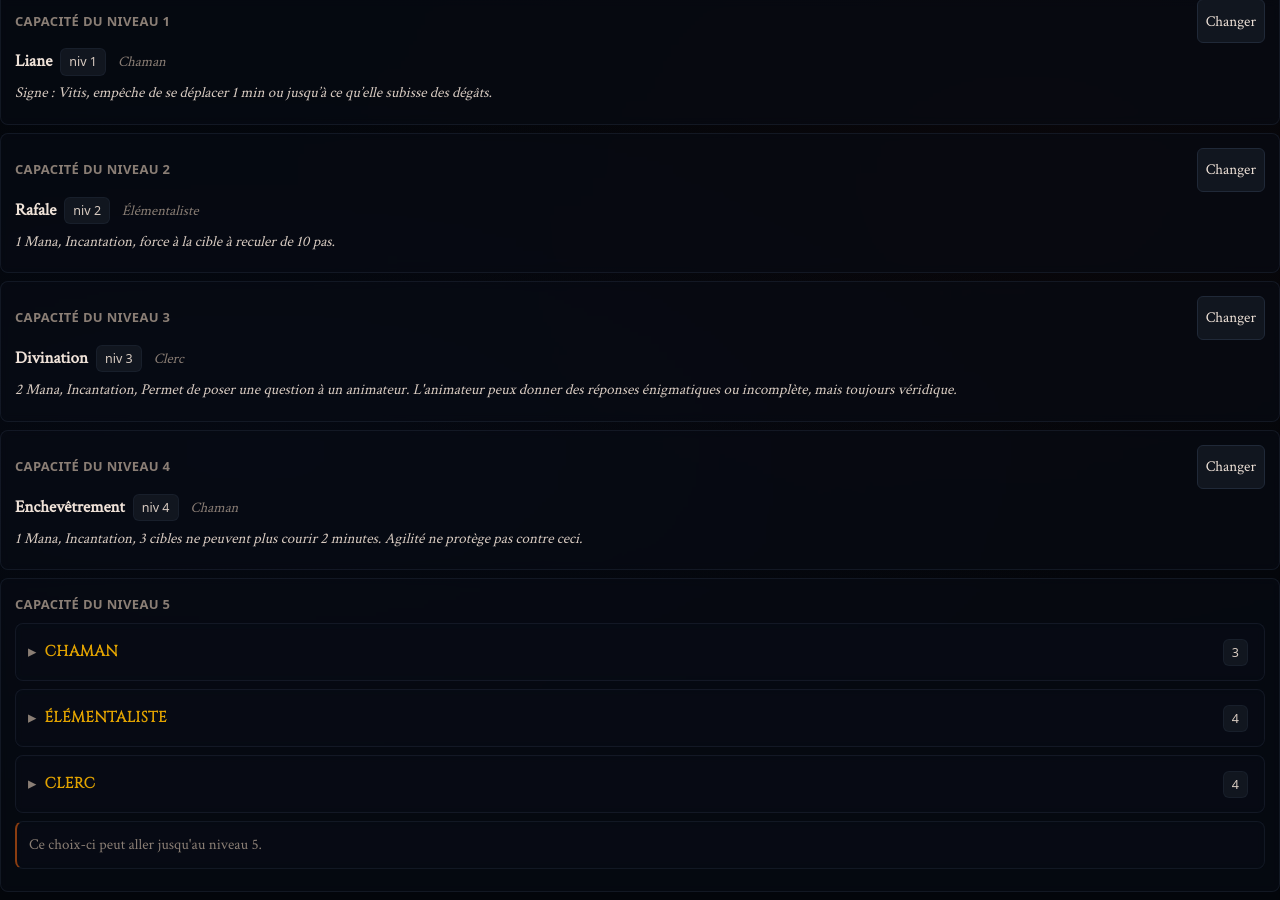
Test: D16 ⑦ — D14 à l’écran : `affichage ?? verbatim` › jumelle : une capacité sans correction rend son verbatim tel quel — une fois sa voie ouverte
(page scrolled)
Click the button "▸ Chaman 3" at (81, 652), box 16,624 -> 1264,680
(page scrolled)
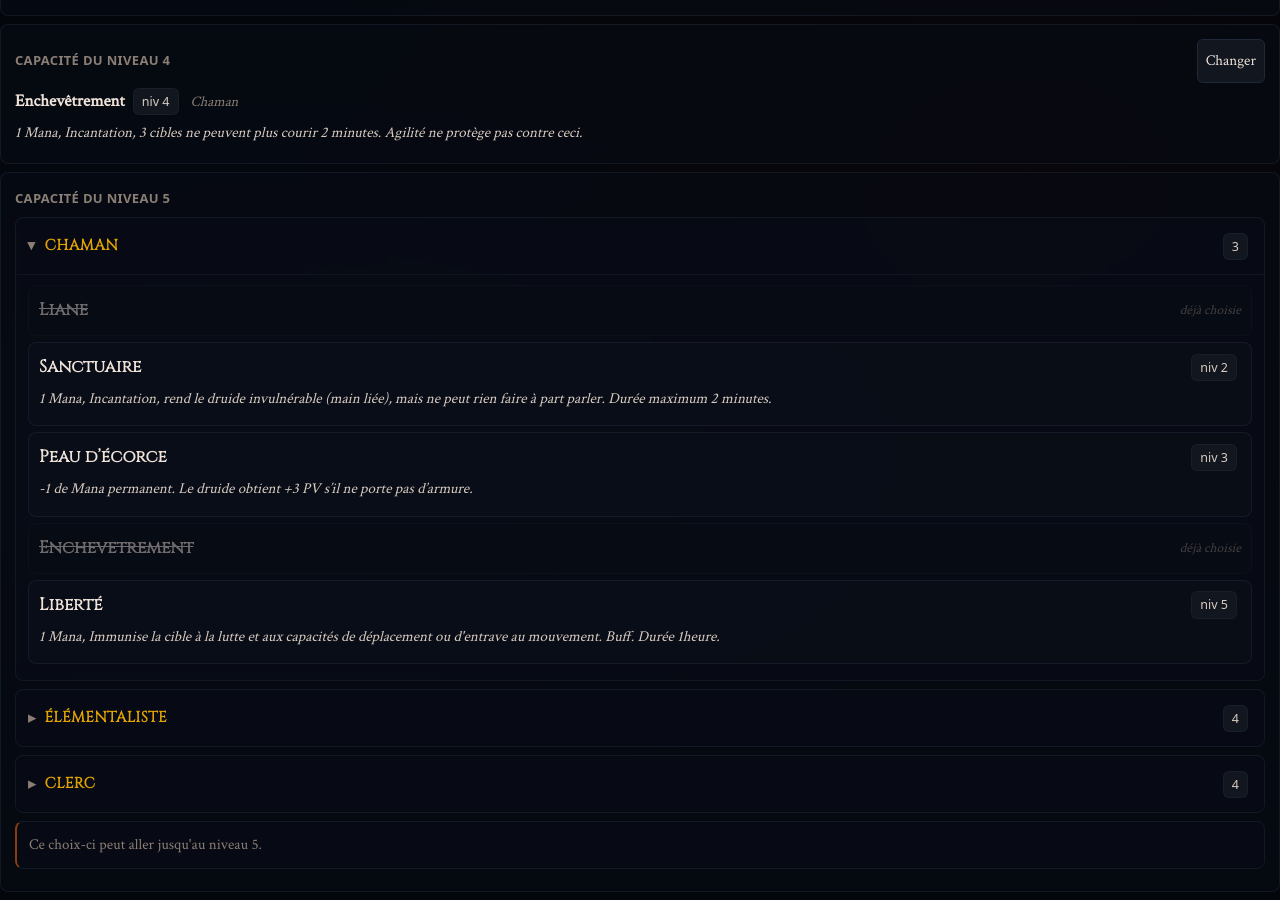
Now the text "-1 de Mana permanent. Le druide obtient +3 PV s’il ne porte pas d’armure." is shown, box 39,479 -> 473,498
